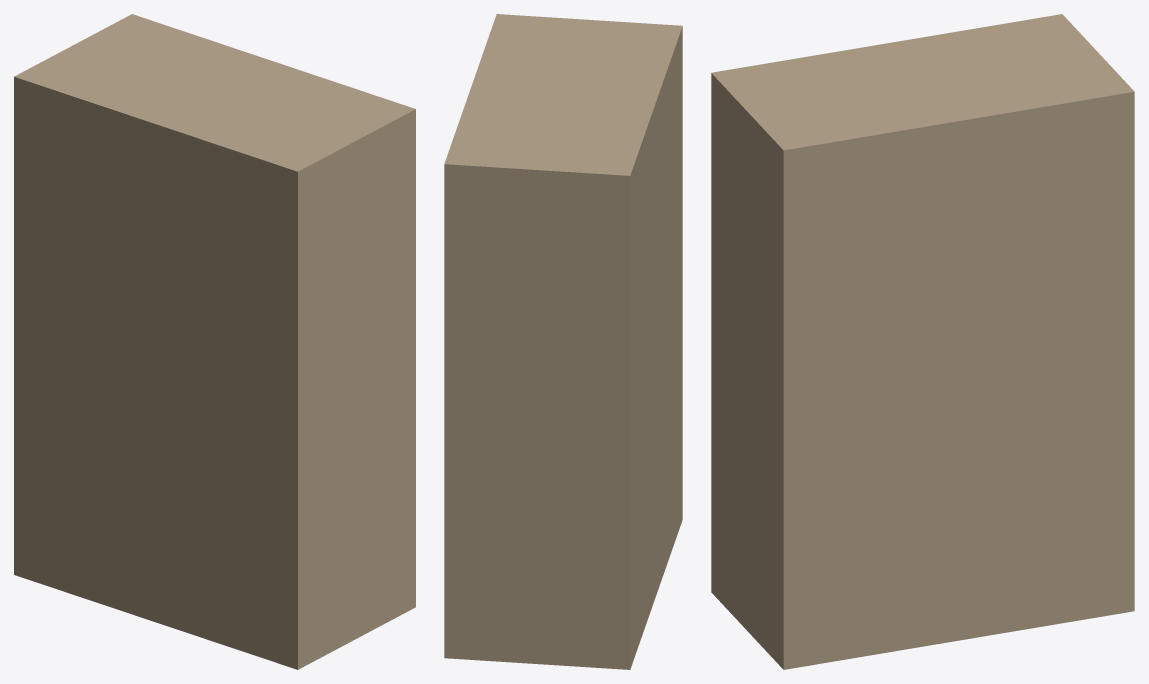
The model's file is bld_107610552.dae.
The picture shows the model from 3 angles, left to right: view 1: azimuth 30°, elevation 25°; view 2: azimuth 150°, elevation 25°; view 3: azimuth 270°, elevation 25°; orthographic projection. The views are drawn at different scales.
Parts seen in each view (by area): view 1: bld_107610552; view 2: bld_107610552; view 3: bld_107610552.
Part boxes in pixels (left/top/right/bottom): bld_107610552: left=14, top=14, right=415, bottom=669; bld_107610552: left=444, top=14, right=682, bottom=669; bld_107610552: left=711, top=14, right=1134, bottom=669.
Size of the model in its own units: 4.51 by 5.91 by 8.
